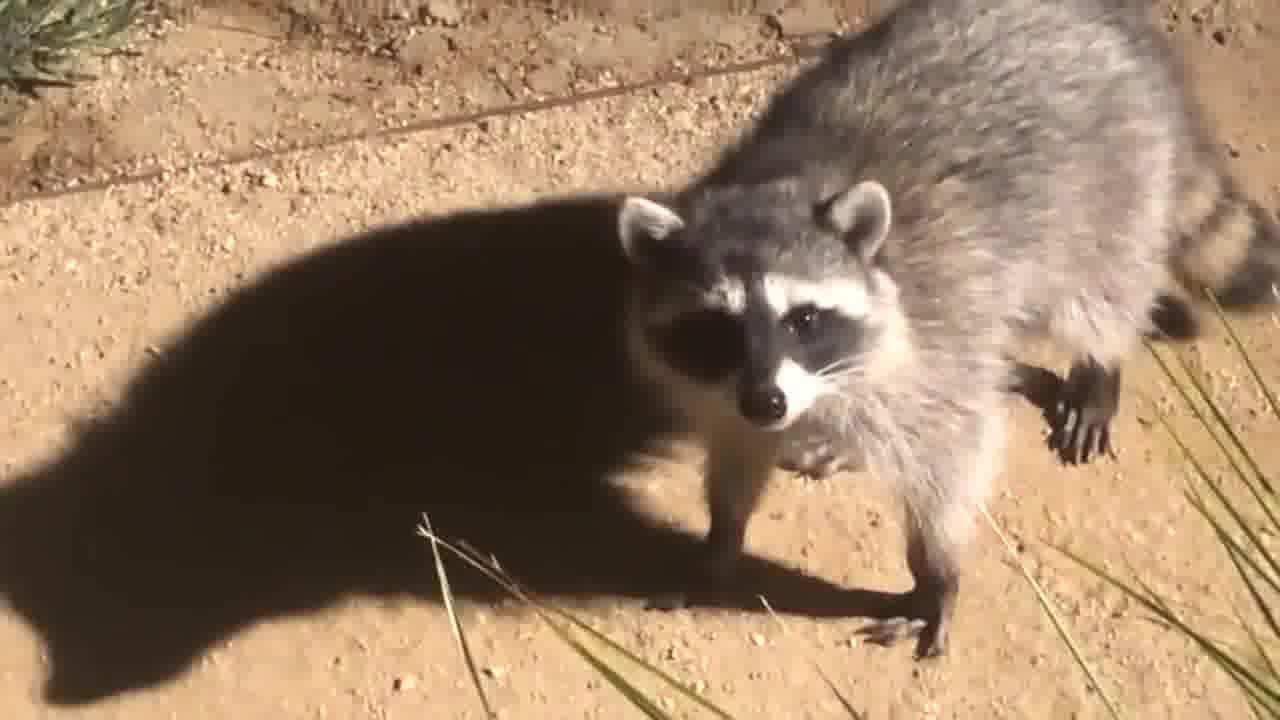raccoon: (606, 0, 1280, 665)
